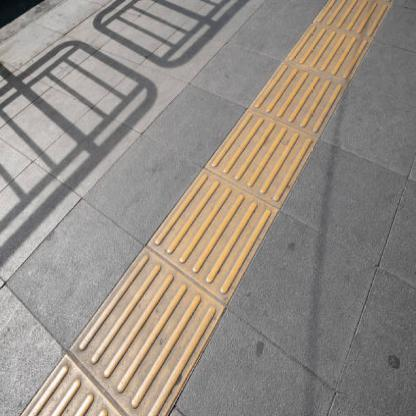podotacti: (20, 2, 392, 411)
